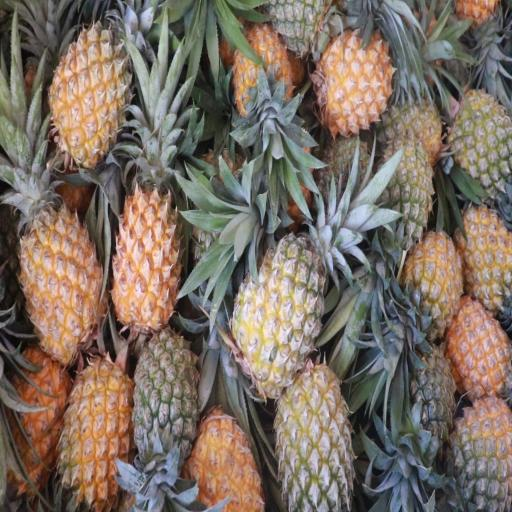------------------------------: (235, 238, 321, 383), (277, 359, 351, 512)
Pineapple - v8 v1: (20, 190, 102, 357), (60, 352, 133, 502), (51, 23, 127, 158), (114, 175, 182, 324), (5, 344, 67, 485), (194, 406, 260, 512), (320, 36, 391, 132), (450, 298, 512, 402), (232, 28, 294, 124), (458, 208, 512, 308), (407, 233, 459, 329)
